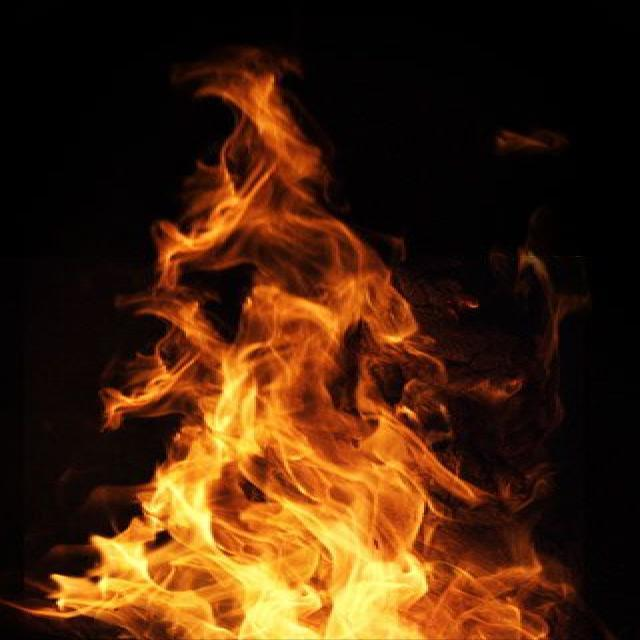Fire: (44, 48, 606, 640)
